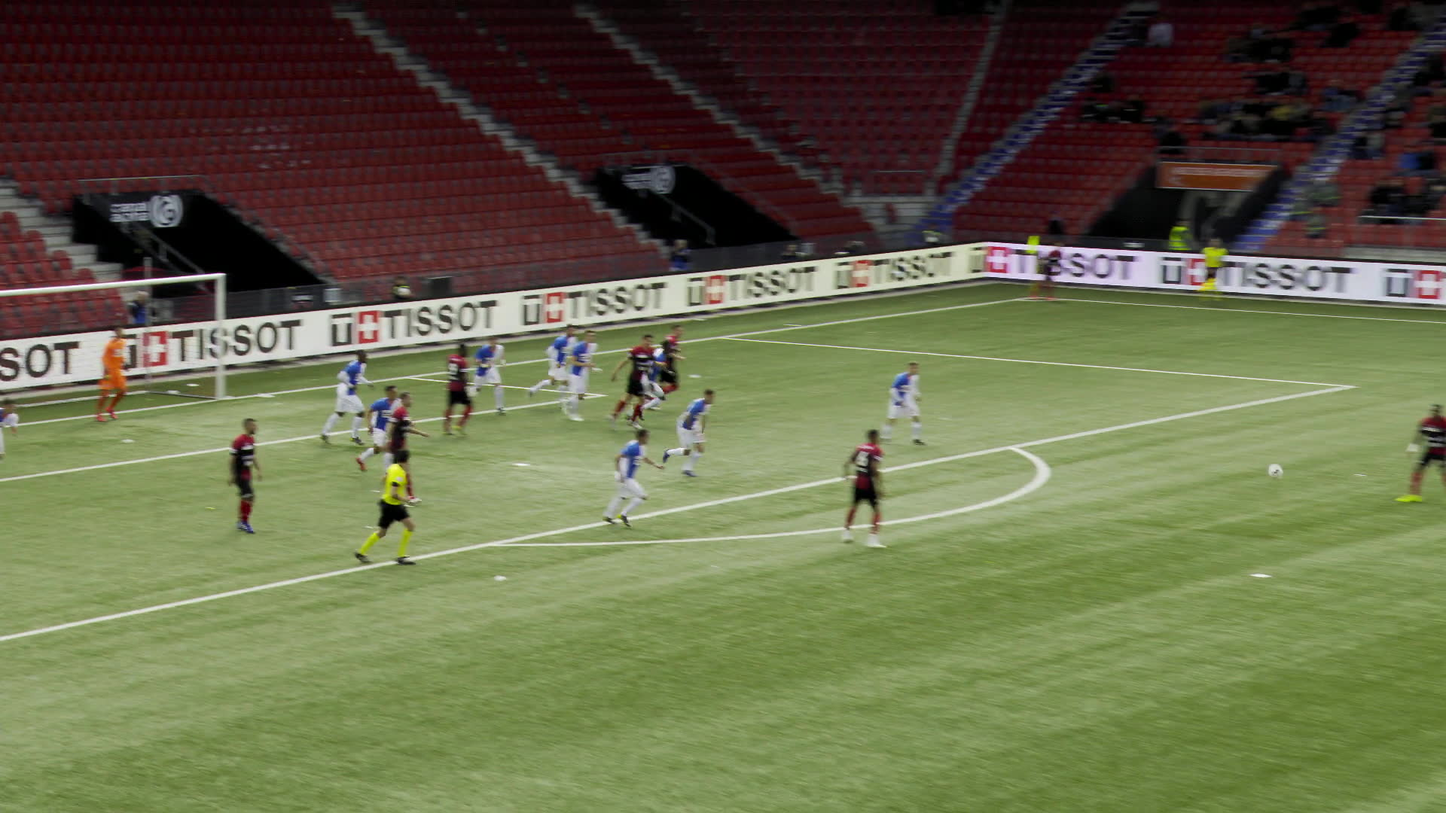ball: (1268, 463, 1282, 475)
player: (610, 339, 675, 433), (619, 431, 676, 533), (228, 420, 278, 536), (855, 428, 902, 547), (339, 356, 395, 450), (688, 394, 746, 480), (908, 355, 958, 449), (365, 385, 414, 480), (554, 328, 607, 412), (104, 325, 149, 422), (624, 342, 678, 421), (582, 330, 626, 424), (395, 393, 432, 501), (450, 346, 488, 440), (664, 319, 702, 410), (1401, 410, 1436, 504), (493, 340, 528, 417), (1048, 239, 1085, 302), (0, 396, 22, 465)
referee: (374, 448, 427, 567), (1200, 236, 1237, 306)
